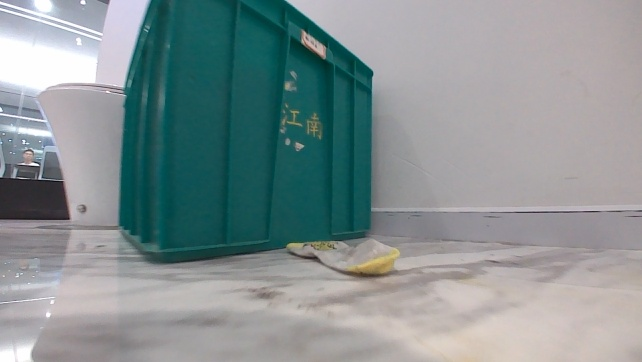socks: (283, 235, 401, 278)
toilet: (33, 77, 126, 229)
